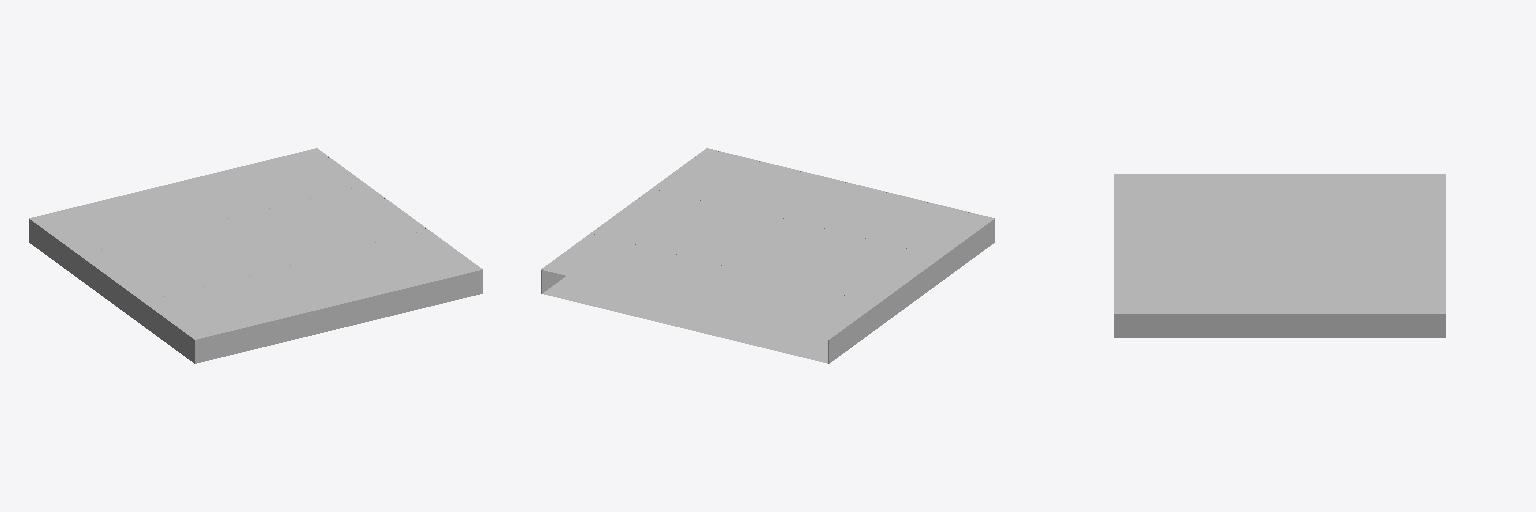
Rendered from museo3.obj.
3 views of the same model, side by side, from view 1: azimuth 30°, elevation 25°; view 2: azimuth 150°, elevation 25°; view 3: azimuth 270°, elevation 25° (orthographic).
Parts seen in each view (by area): view 1: Plane (1), Cube (2), Cube; view 2: Plane (1), Plane, Cube; view 3: Plane (1), Cube (1).
Boxes of the visible parts, <box> form: Plane (1): <box>31,148,480,338</box>; Cube (2): <box>195,269,482,363</box>; Cube: <box>29,218,194,363</box>; Plane (1): <box>543,149,992,339</box>; Plane: <box>543,276,827,363</box>; Cube: <box>828,218,994,363</box>; Plane (1): <box>1115,174,1445,313</box>; Cube (1): <box>1115,314,1445,337</box>.
Bounding box in the file's own units: 50.2 × 4 × 50.1.